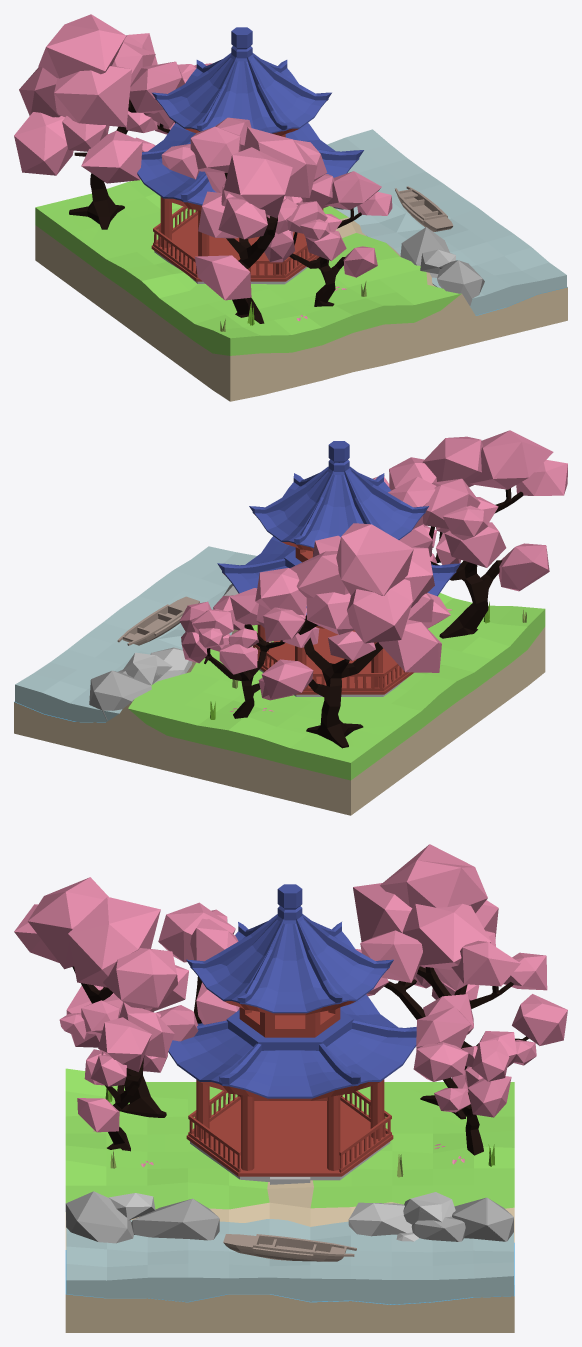
File: Spring_Boolean_v01_w05.fbx
3 renders of one model, top to bottom at view 1: azimuth 30°, elevation 25°; view 2: azimuth 150°, elevation 25°; view 3: azimuth 270°, elevation 25°, orthographic. The views are drawn at different scales.
Parts seen in each view (by area): view 1: 00_Ground, 12_Tree01, 12_Tree02, 00_Water, 08_Roof2F, 12_Tree04, 05_Roof1F, 11_Rock2, 01_Base1F, 09_Boat, 12_Tree03, 02_Fence_Pillar (+3 smaller); view 2: 00_Ground, 12_Tree01, 12_Tree02, 00_Water, 08_Roof2F, 12_Tree03, 10_Rock1, 05_Roof1F, 01_Base1F, 09_Boat, 12_Tree04, 02_Fence_Pillar; view 3: 00_Ground, 00_Water, 12_Tree01, 12_Tree02, 05_Roof1F, 08_Roof2F, 12_Tree03, 01_Base1F, 12_Tree04, 11_Rock2, 10_Rock1, 09_Boat (+10 smaller).
Part boxes in pixels (x1,y1,x2,y2): 00_Ground: (35,179,567,401); 12_Tree01: (14,14,185,229); 12_Tree02: (161,117,327,323); 00_Water: (327,129,566,315); 08_Roof2F: (152,27,331,135); 12_Tree04: (264,171,392,306); 05_Roof1F: (137,123,363,210); 11_Rock2: (400,227,484,305); 01_Base1F: (151,215,319,284); 09_Boat: (395,186,453,231); 12_Tree03: (126,63,211,151); 02_Fence_Pillar: (154,208,311,275); 00_Ground: (14,593,545,815); 12_Tree01: (255,523,450,747); 12_Tree02: (388,430,567,638); 00_Water: (15,546,256,722); 08_Roof2F: (249,441,428,551); 12_Tree03: (179,588,319,718); 10_Rock1: (89,647,192,719); 05_Roof1F: (217,536,460,628); 01_Base1F: (259,628,413,696); 09_Boat: (117,596,199,645); 12_Tree04: (373,476,460,564); 02_Fence_Pillar: (253,645,404,688); 00_Ground: (65,1068,514,1332); 00_Water: (66,1219,513,1304); 12_Tree01: (353,844,567,1119); 12_Tree02: (14,877,239,1117); 05_Roof1F: (168,994,416,1100); 08_Roof2F: (186,884,393,1015); 12_Tree03: (413,994,536,1155); 01_Base1F: (186,1099,393,1184); 12_Tree04: (59,994,174,1151); 11_Rock2: (65,1191,219,1243); 10_Rock1: (348,1192,513,1241); 09_Boat: (223,1234,356,1261).
Size of what is drawn, in the model's own units: 116 by 77.51 by 123.
